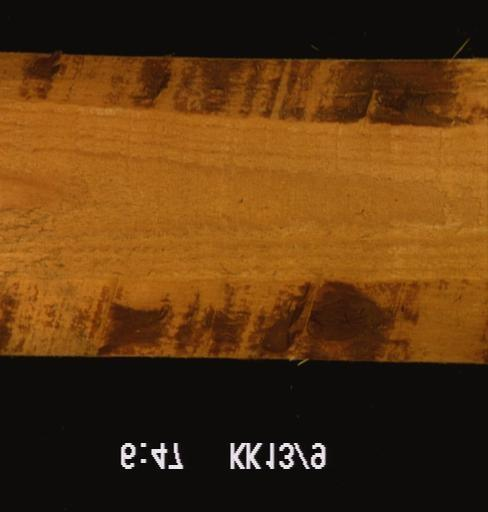wave: (0, 268, 485, 361), (0, 51, 486, 135)
